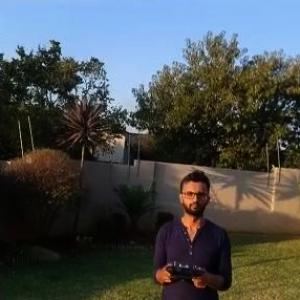follow: (146, 163, 236, 299)
